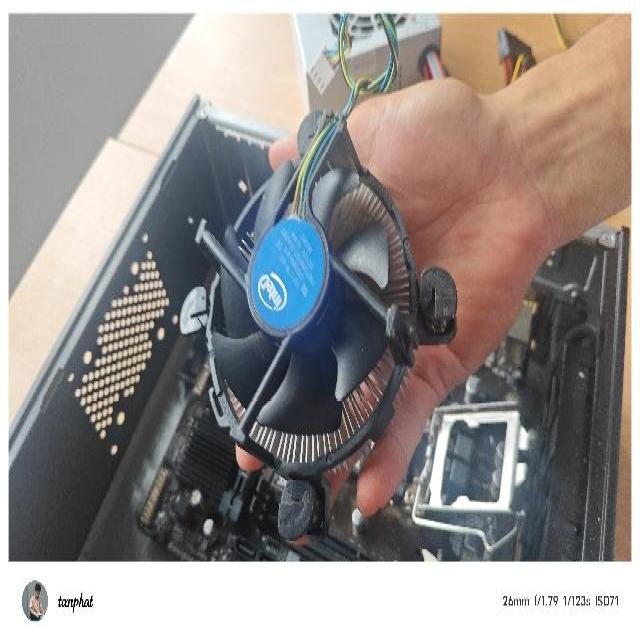CPU_Fan: (176, 105, 458, 543)
